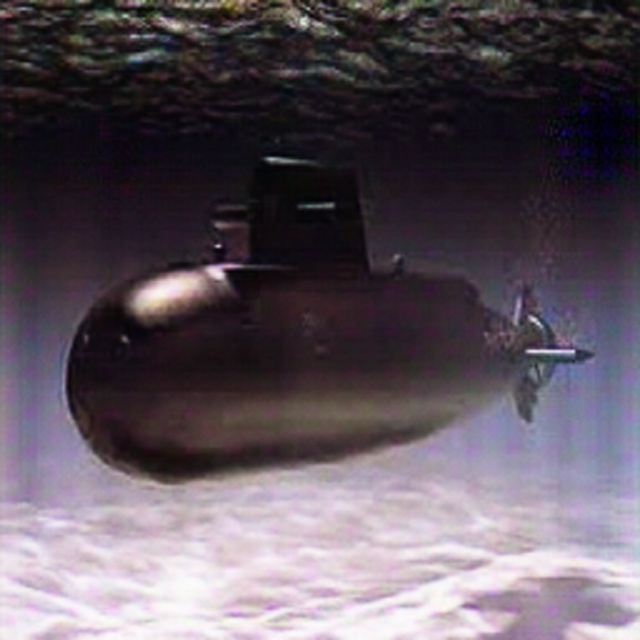submarine: (56, 149, 597, 497)
